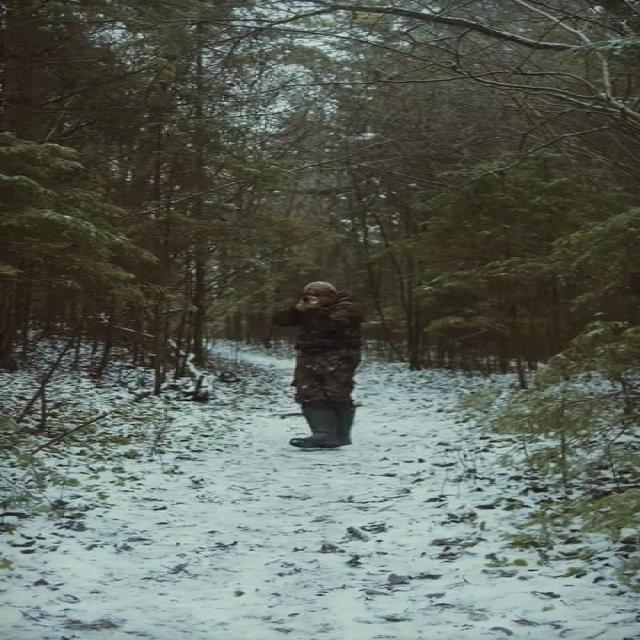Gun_Holder: (296, 293, 322, 309)
Person: (281, 280, 364, 444)
